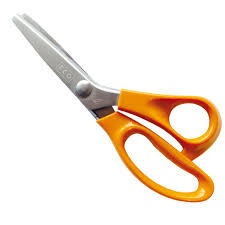tihiras: (5, 8, 220, 207)
